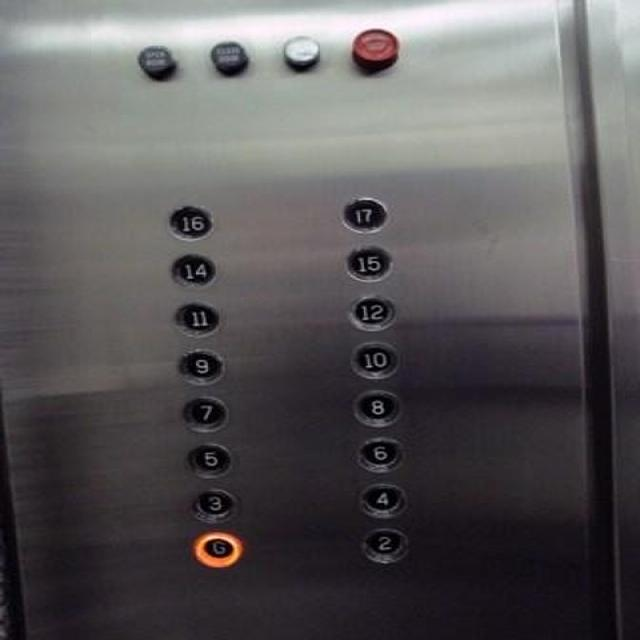10: (348, 340, 401, 378)
11: (169, 299, 223, 339)
12: (345, 292, 396, 332)
14: (166, 250, 218, 290)
15: (340, 240, 393, 282)
16: (163, 201, 216, 241)
17: (336, 195, 389, 234)
2: (356, 524, 408, 565)
3: (182, 487, 238, 524)
4: (353, 481, 407, 518)
5: (181, 440, 236, 479)
6: (352, 435, 404, 473)
7: (178, 393, 230, 433)
8: (349, 389, 402, 427)
9: (172, 346, 225, 386)
G: (192, 530, 243, 567)
text_blur: (348, 27, 400, 67), (279, 35, 321, 73), (136, 43, 176, 81), (208, 40, 249, 76)
